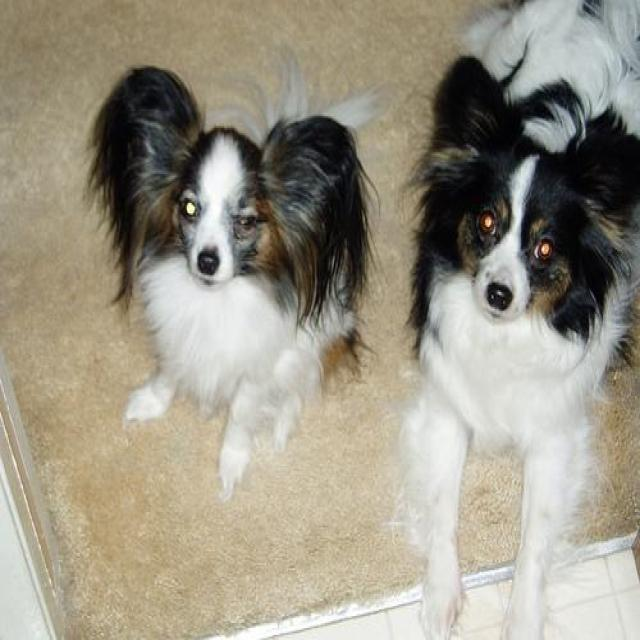papillon: (406, 0, 638, 637), (88, 63, 366, 480)
